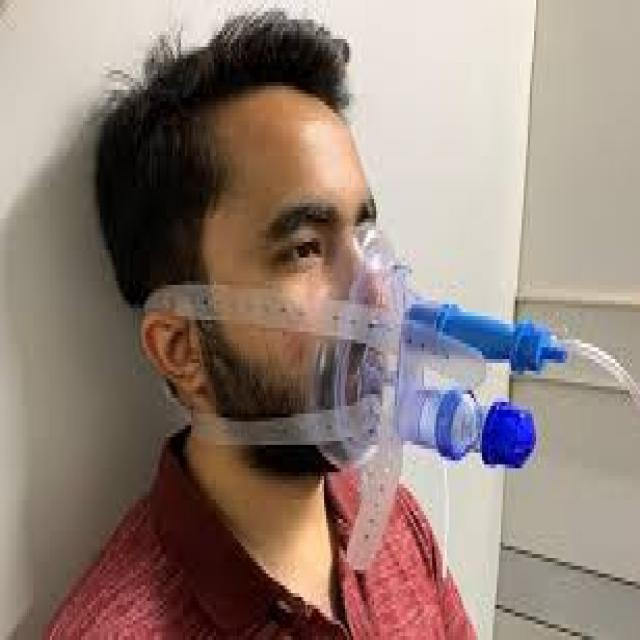oxygen_mask: (340, 228, 590, 487)
